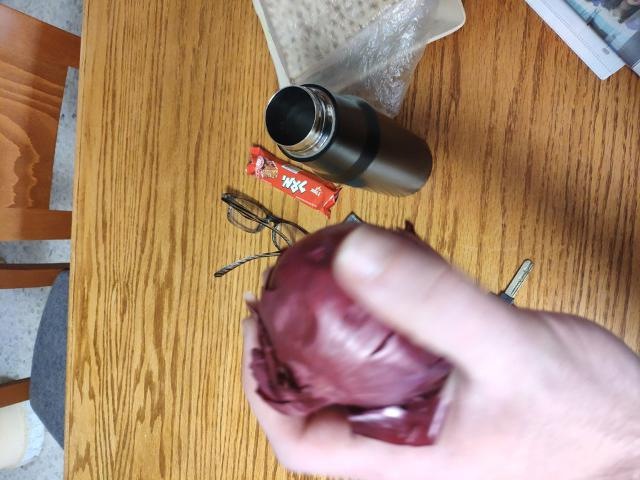onion: (266, 253, 466, 423)
